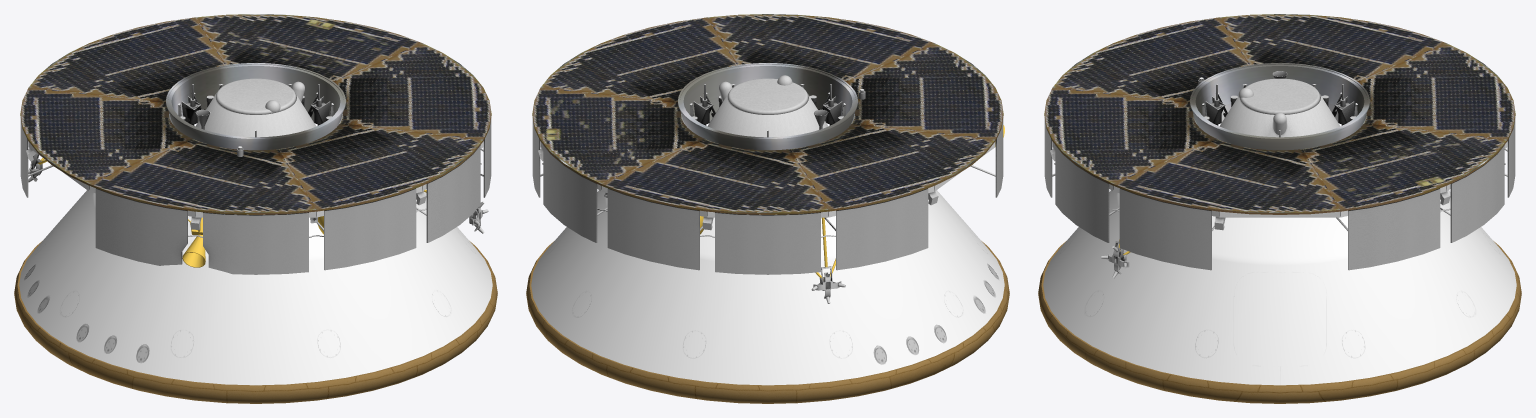
Rendered from mars-2020.glb.
3 renders of one model, left to right at view 1: azimuth 30°, elevation 25°; view 2: azimuth 150°, elevation 25°; view 3: azimuth 270°, elevation 25°, orthographic.
Visible parts, largest first — view 1: solar_panels., back_shell, frame_etc, heat_shield, cone, chute_cap; view 2: solar_panels., back_shell, frame_etc, heat_shield, cone, chute_cap; view 3: solar_panels., back_shell, frame_etc, heat_shield, cone, chute_cap.
Part boxes in pixels (box(x1,y1,x2,y2)): solar_panels.: box(20, 14, 491, 214); back_shell: box(19, 190, 492, 385); frame_etc: box(20, 63, 491, 274); heat_shield: box(14, 241, 497, 403); cone: box(195, 81, 316, 137); chute_cap: box(215, 78, 296, 114); solar_panels.: box(532, 14, 1003, 214); back_shell: box(531, 190, 1004, 385); frame_etc: box(532, 63, 1004, 303); heat_shield: box(526, 241, 1009, 403); cone: box(707, 81, 828, 137); chute_cap: box(727, 75, 808, 114); solar_panels.: box(1044, 14, 1515, 214); back_shell: box(1043, 190, 1516, 385); frame_etc: box(1044, 63, 1515, 278); heat_shield: box(1038, 241, 1521, 403); cone: box(1219, 94, 1340, 137); chute_cap: box(1238, 78, 1320, 114).
Size of the model in its own units: 4.5 by 2.95 by 4.5.
Materials: 11 (8 with a texture image).
